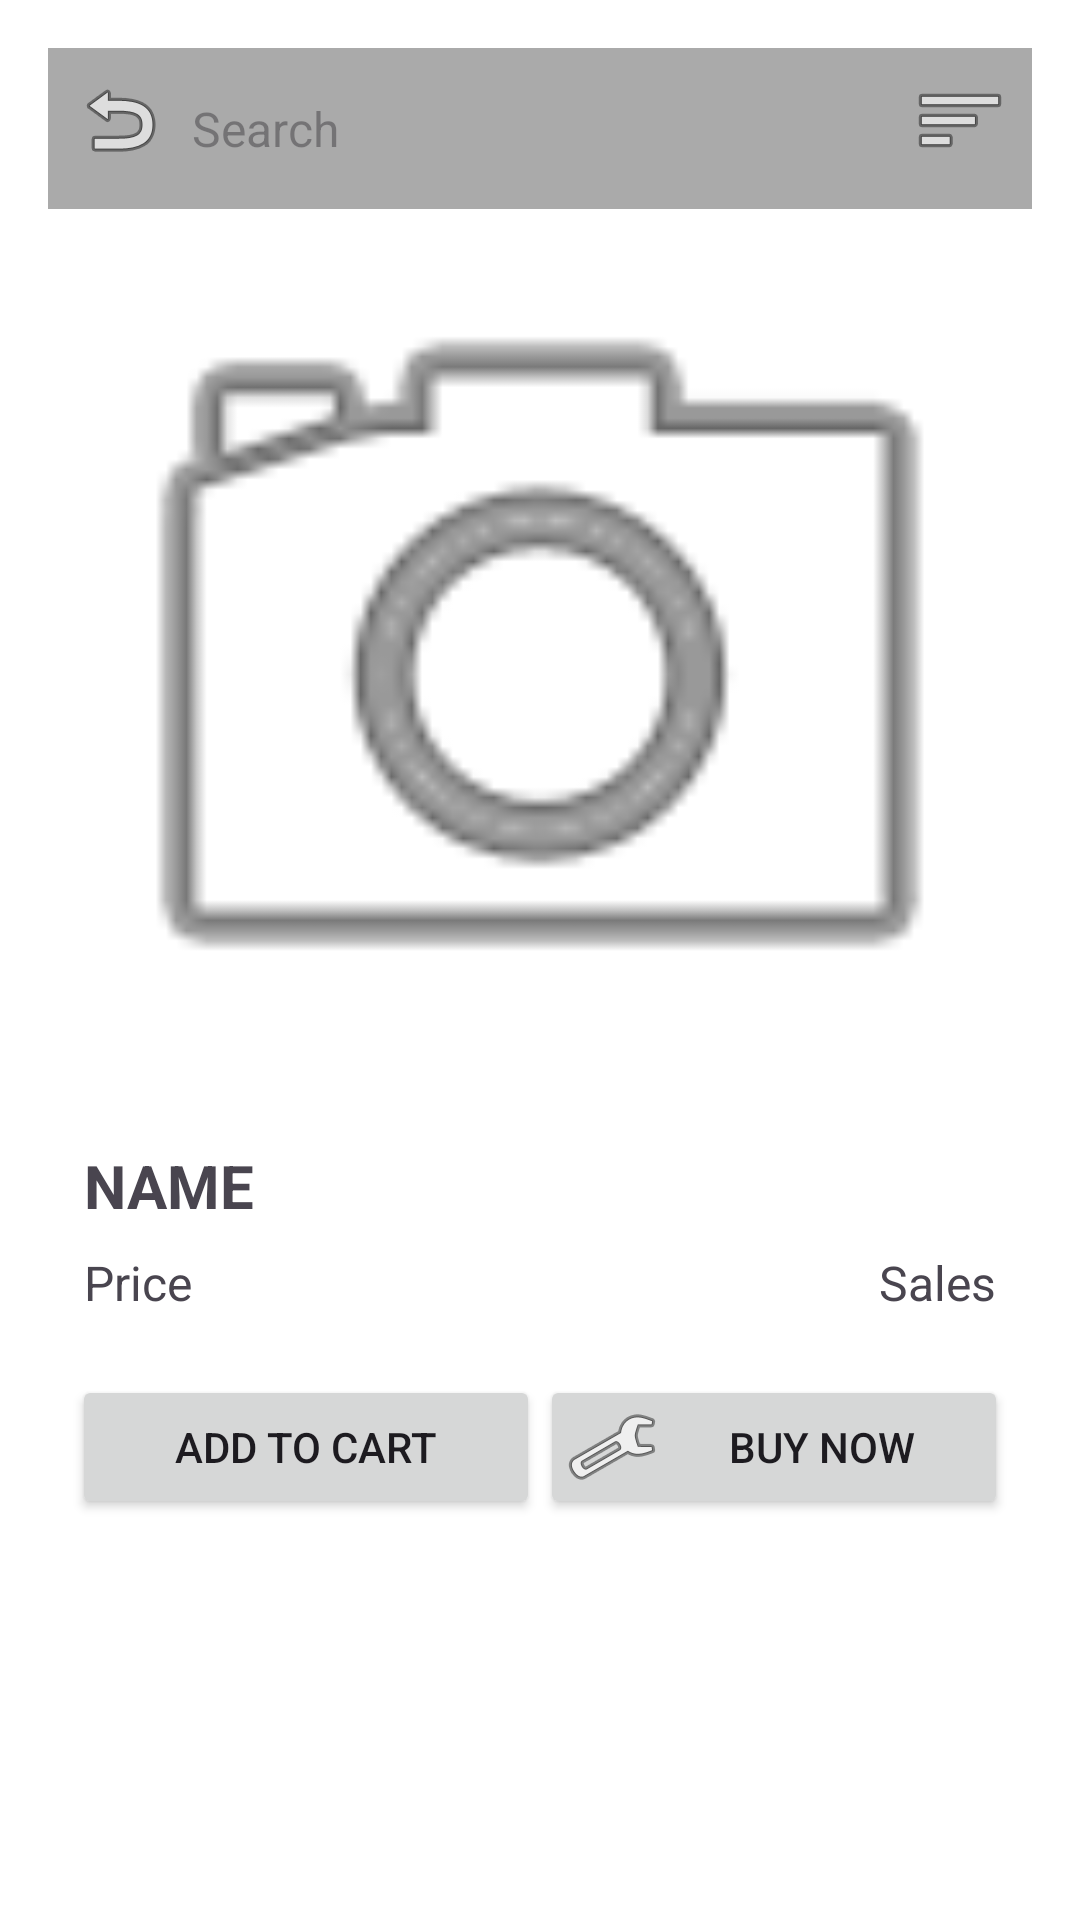

Where to tap for icons on this 1080px x 1920px app screen, as point (x, y):
Back: point (121, 120)
Filter: point (960, 120)
